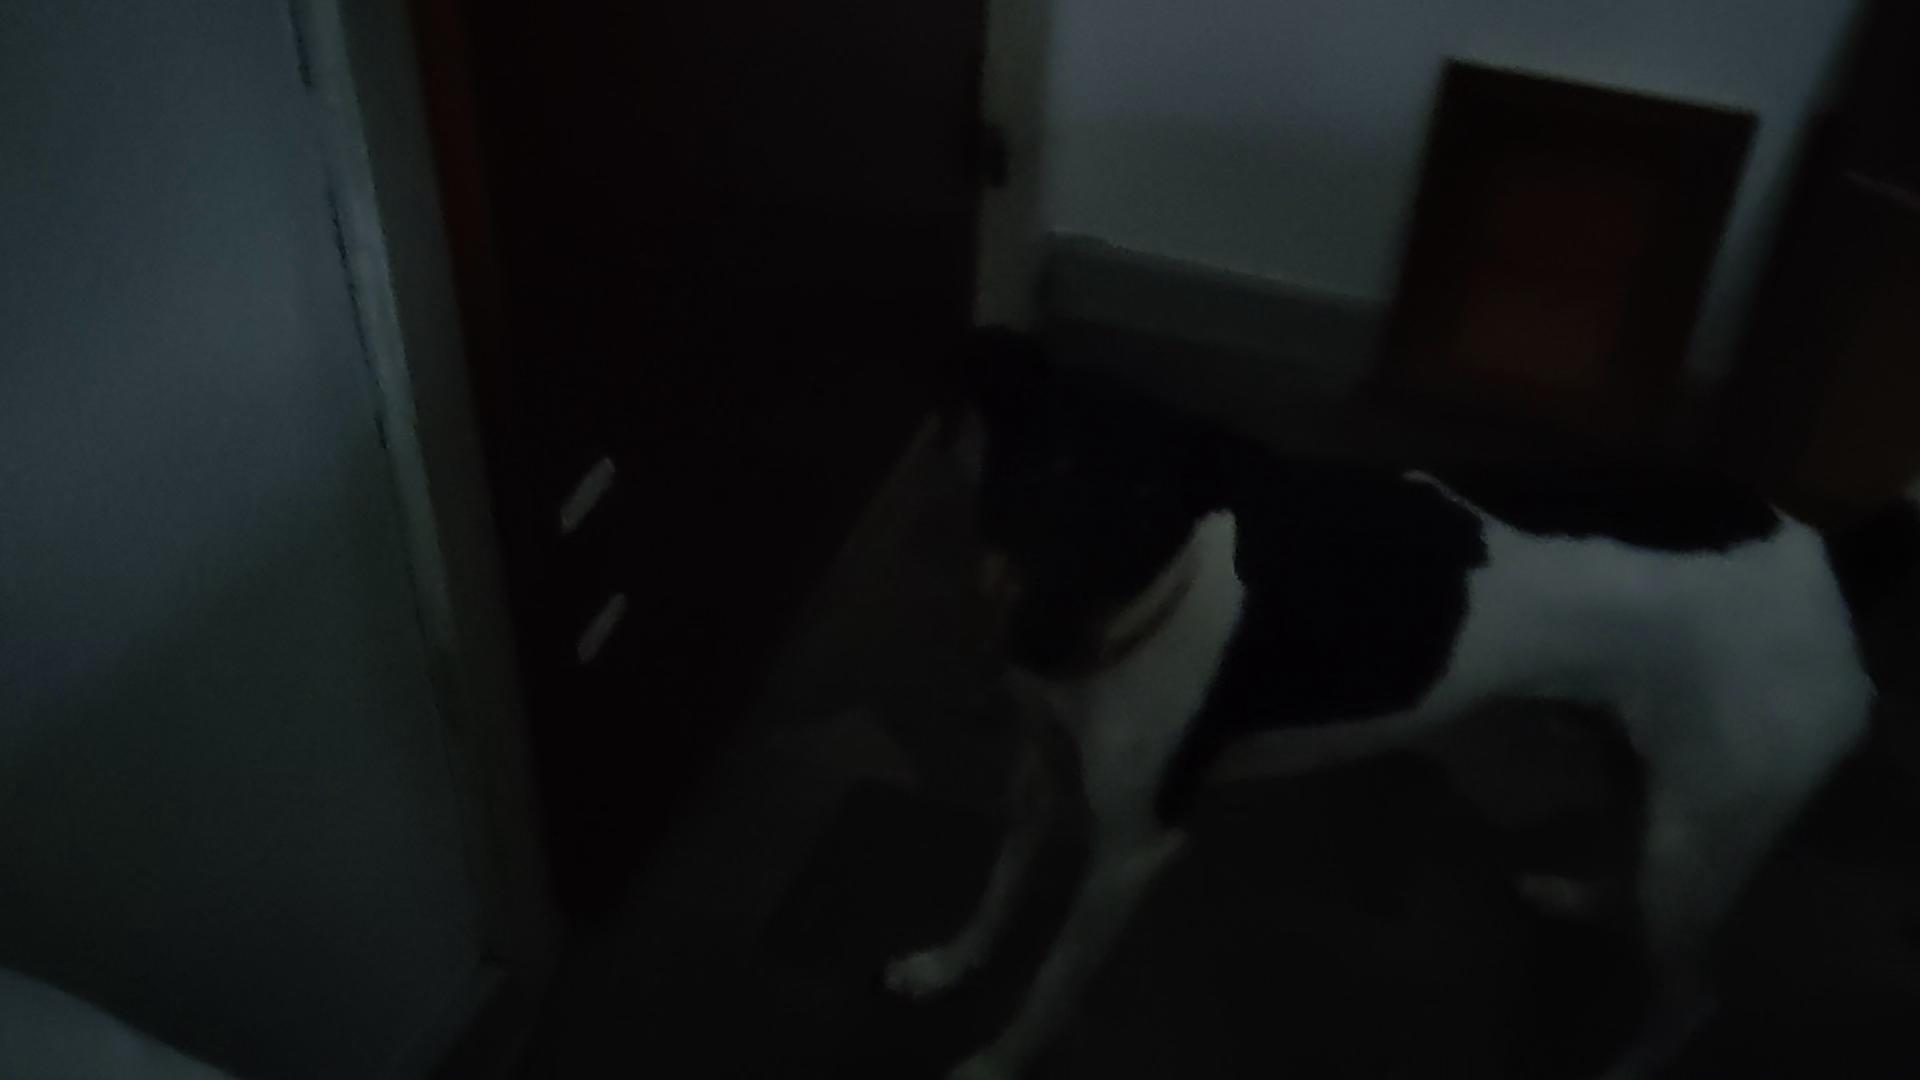Dog: (885, 309, 1919, 1079)
